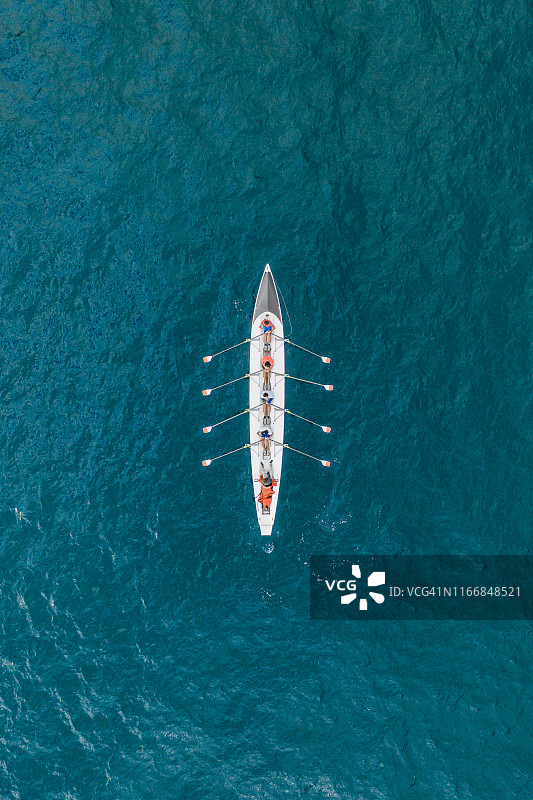ship: (188, 239, 343, 549)
